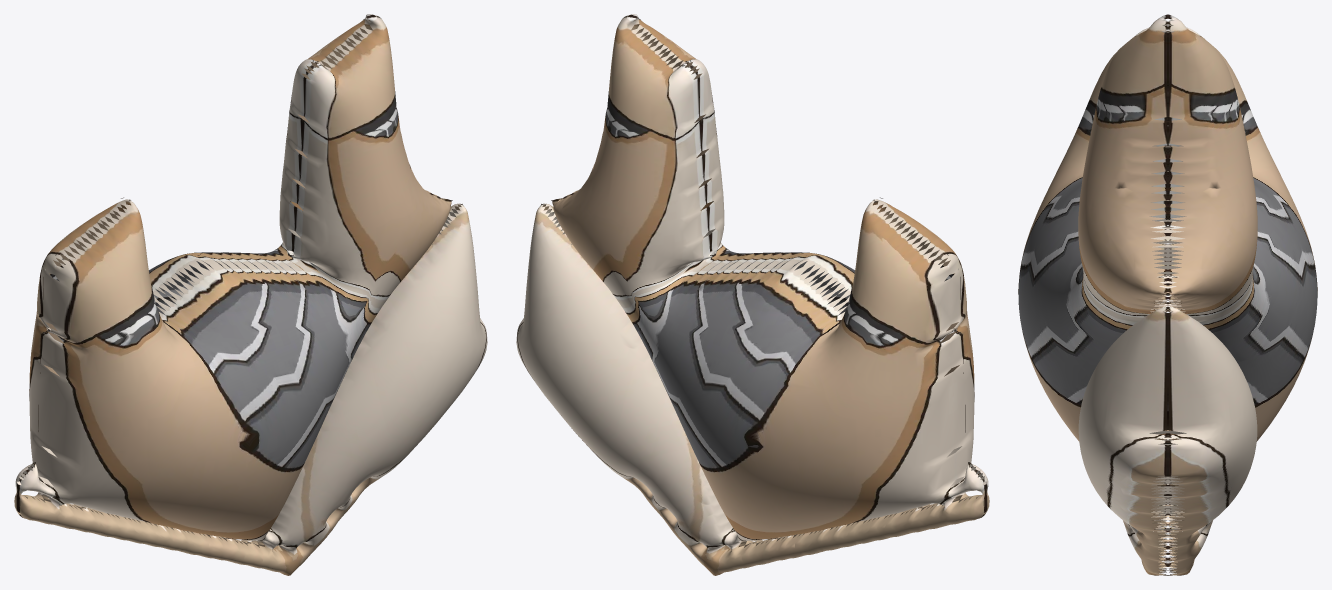
Rendered from generator_cradle.glb.
The picture shows the model from 3 angles, left to right: view 1: azimuth 30°, elevation 25°; view 2: azimuth 150°, elevation 25°; view 3: azimuth 270°, elevation 25°; orthographic projection. The views are drawn at different scales.
Parts seen in each view (by area): view 1: generator_cradle; view 2: generator_cradle; view 3: generator_cradle.
Part boxes in pixels (box(x1,y1,x2,y2)): generator_cradle: box(14, 14, 487, 575); generator_cradle: box(516, 14, 989, 575); generator_cradle: box(1018, 14, 1317, 575).
Bounding box in the file's own units: 0.988 × 1.09 × 0.4882.
Materials: 1 (1 with a texture image).
